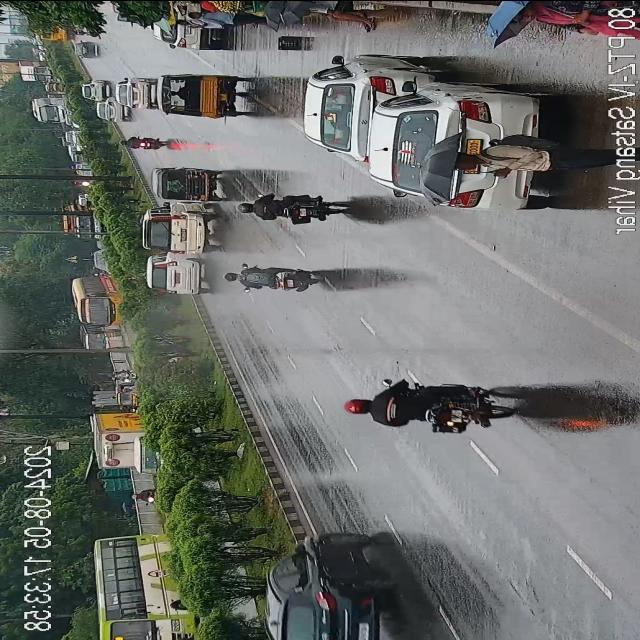2-wheelers: (344, 376, 510, 434), (235, 192, 336, 231), (227, 261, 319, 299), (123, 133, 166, 155), (134, 487, 158, 505)
auto: (164, 70, 238, 116), (161, 168, 224, 204), (114, 368, 143, 408)
bus: (93, 534, 203, 640), (76, 274, 128, 332), (25, 96, 67, 122), (37, 28, 74, 39)
car: (372, 66, 550, 204), (262, 524, 396, 640), (304, 56, 411, 160), (144, 207, 218, 254), (151, 255, 211, 301), (118, 77, 154, 113), (96, 95, 125, 125), (83, 80, 109, 106), (76, 42, 100, 58)
pedestrian: (445, 136, 599, 182), (506, 0, 618, 36), (308, 0, 372, 30), (189, 5, 265, 27), (172, 15, 194, 27)
truck: (93, 409, 165, 475), (65, 203, 105, 239), (20, 58, 58, 82)
